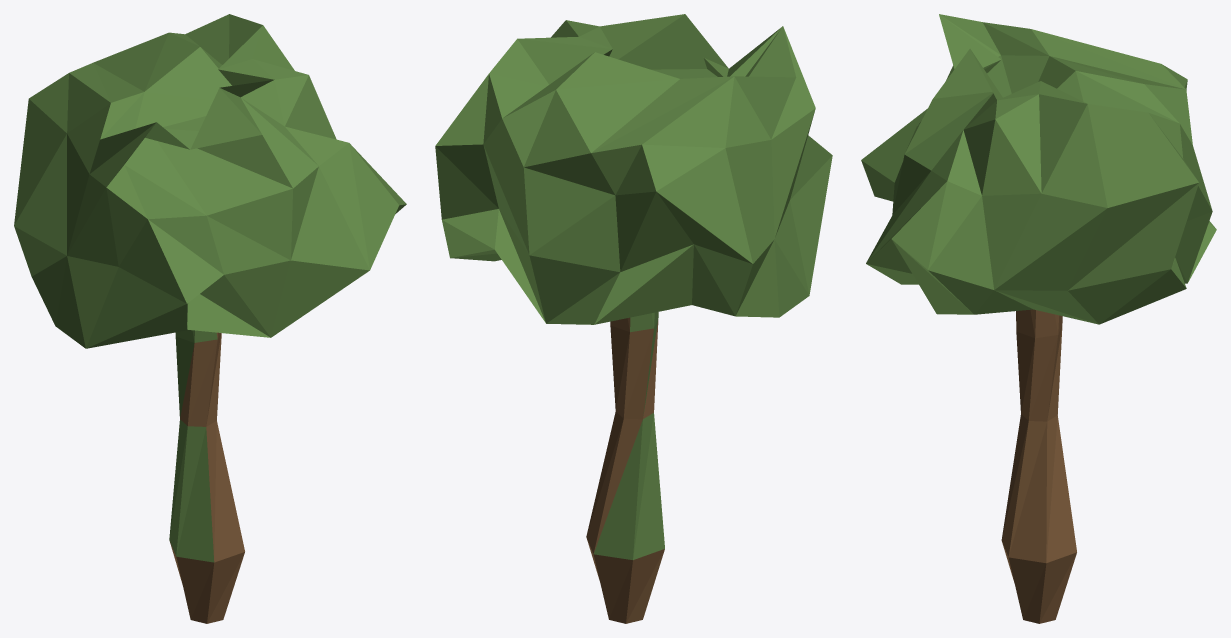
Rendered from tree3d-084.glb.
3 views of the same model, side by side, from view 1: azimuth 30°, elevation 25°; view 2: azimuth 150°, elevation 25°; view 3: azimuth 270°, elevation 25° (orthographic). The views are drawn at different scales.
Parts seen in each view (by area): view 1: tree3d-084; view 2: tree3d-084; view 3: tree3d-084.
Part boxes in pixels (x1,y1,x2,y2): tree3d-084: [14, 14, 406, 623]; tree3d-084: [435, 14, 832, 623]; tree3d-084: [861, 14, 1216, 623].
Size of the model in its own units: 0.5647 by 1 by 0.5791.
